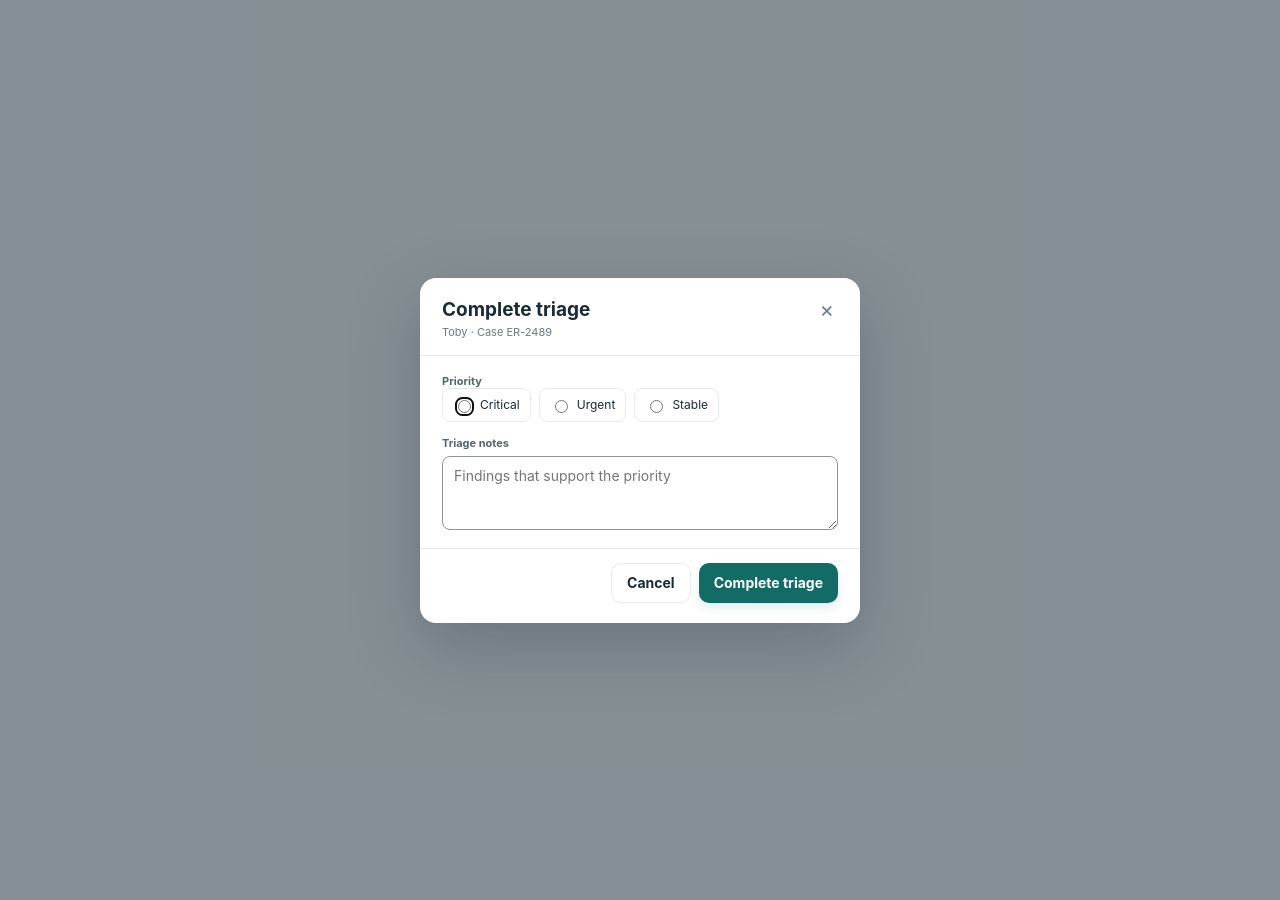
Test: TriageDialog › asks for a priority when the case has none
Click the button "Complete triage" at (768, 582), box [699,562,838,602]
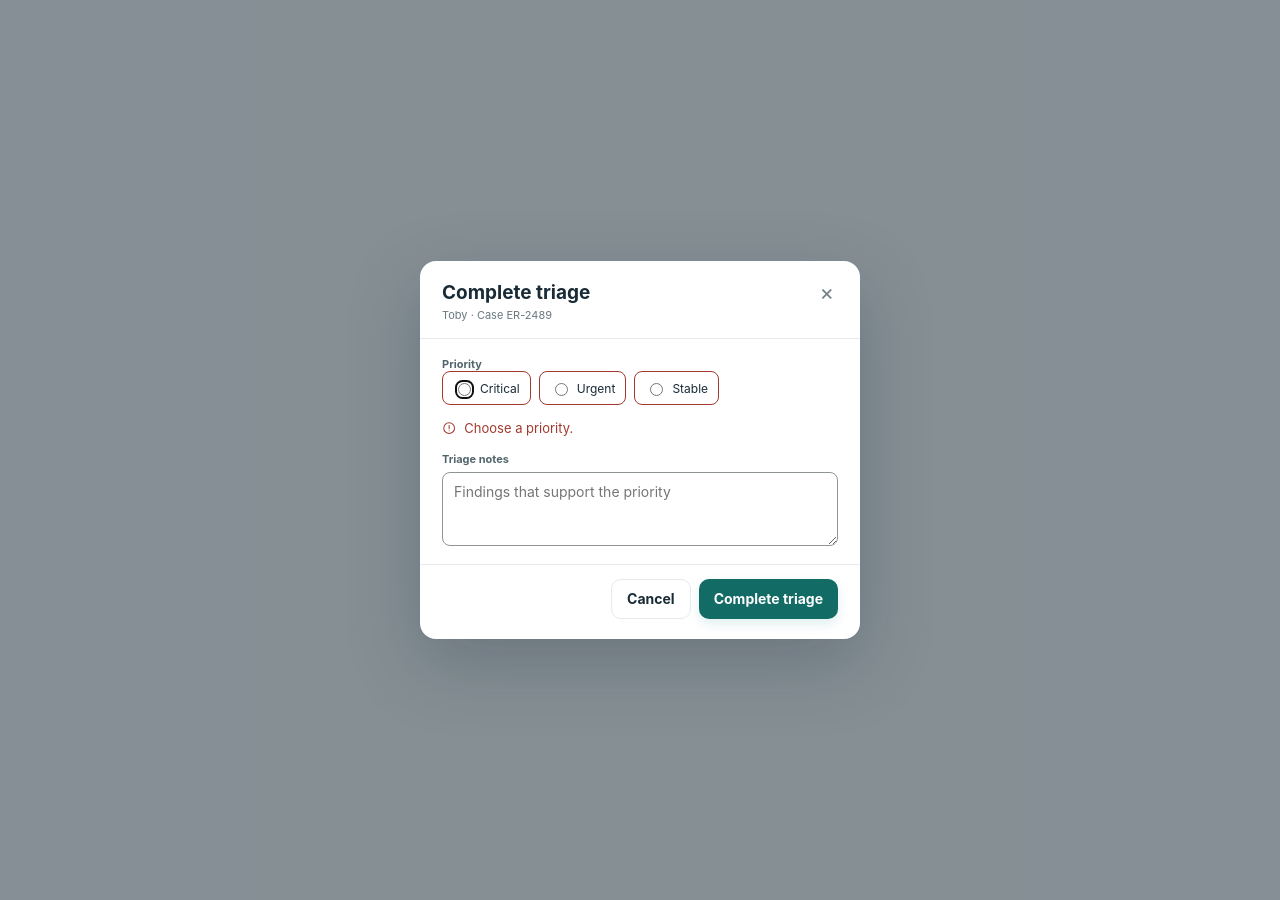
Now the text "Choose a priority." is shown, box [442,420,573,436]
